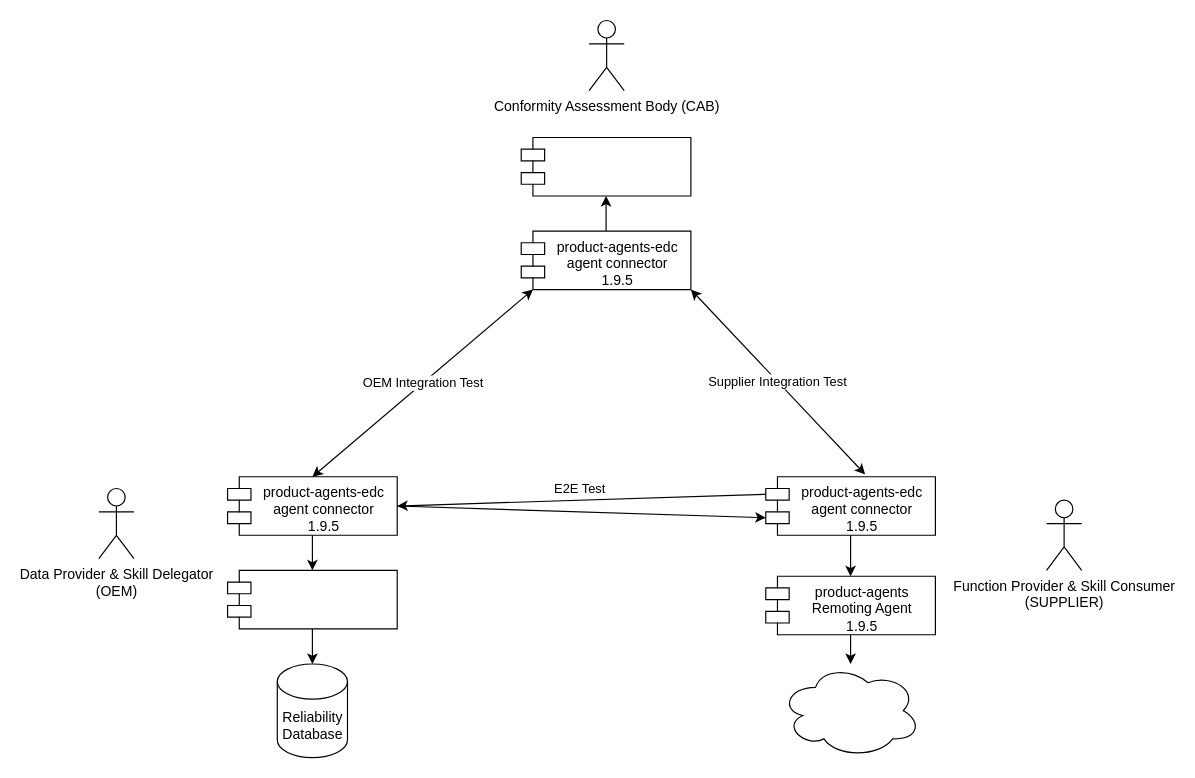
Image size: 1195x778. Some labels were removed from this diagram. Here are the shapes that lost their labels. From the top down, the centre of each, then its label:
At pixel 605 166: "product-agents Conforming Agent 1.9.5".
At pixel 311 599: "product-agents Provisioning Agent 1.9.5".
At pixel 850 710: "Behaviour Prognosis".
